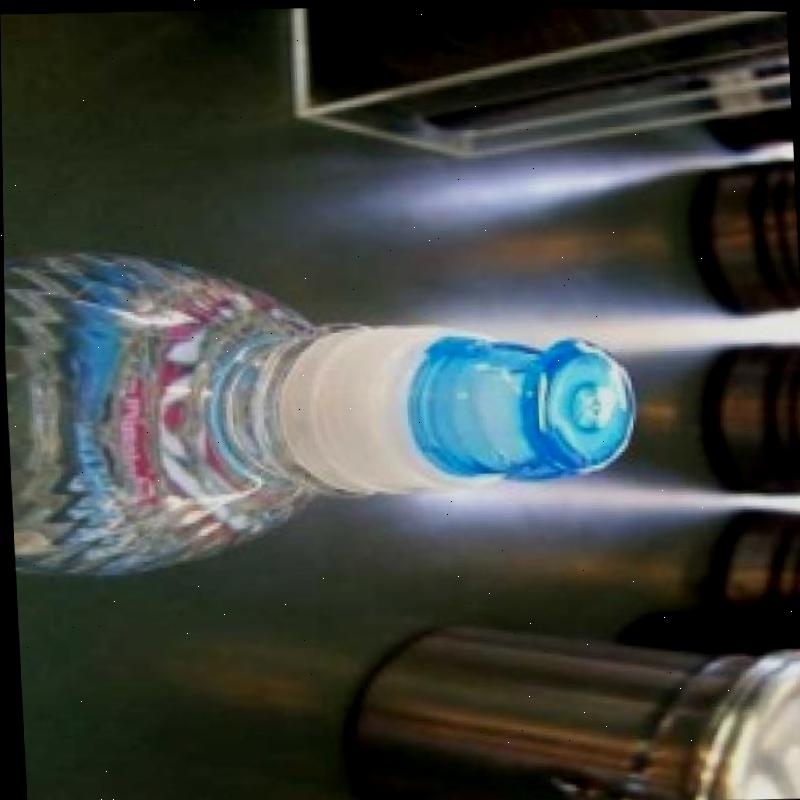botella: (3, 237, 644, 591)
